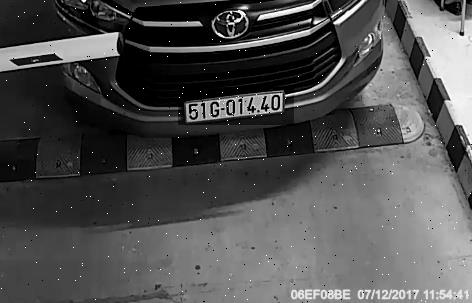License-plate: (179, 88, 295, 126)
